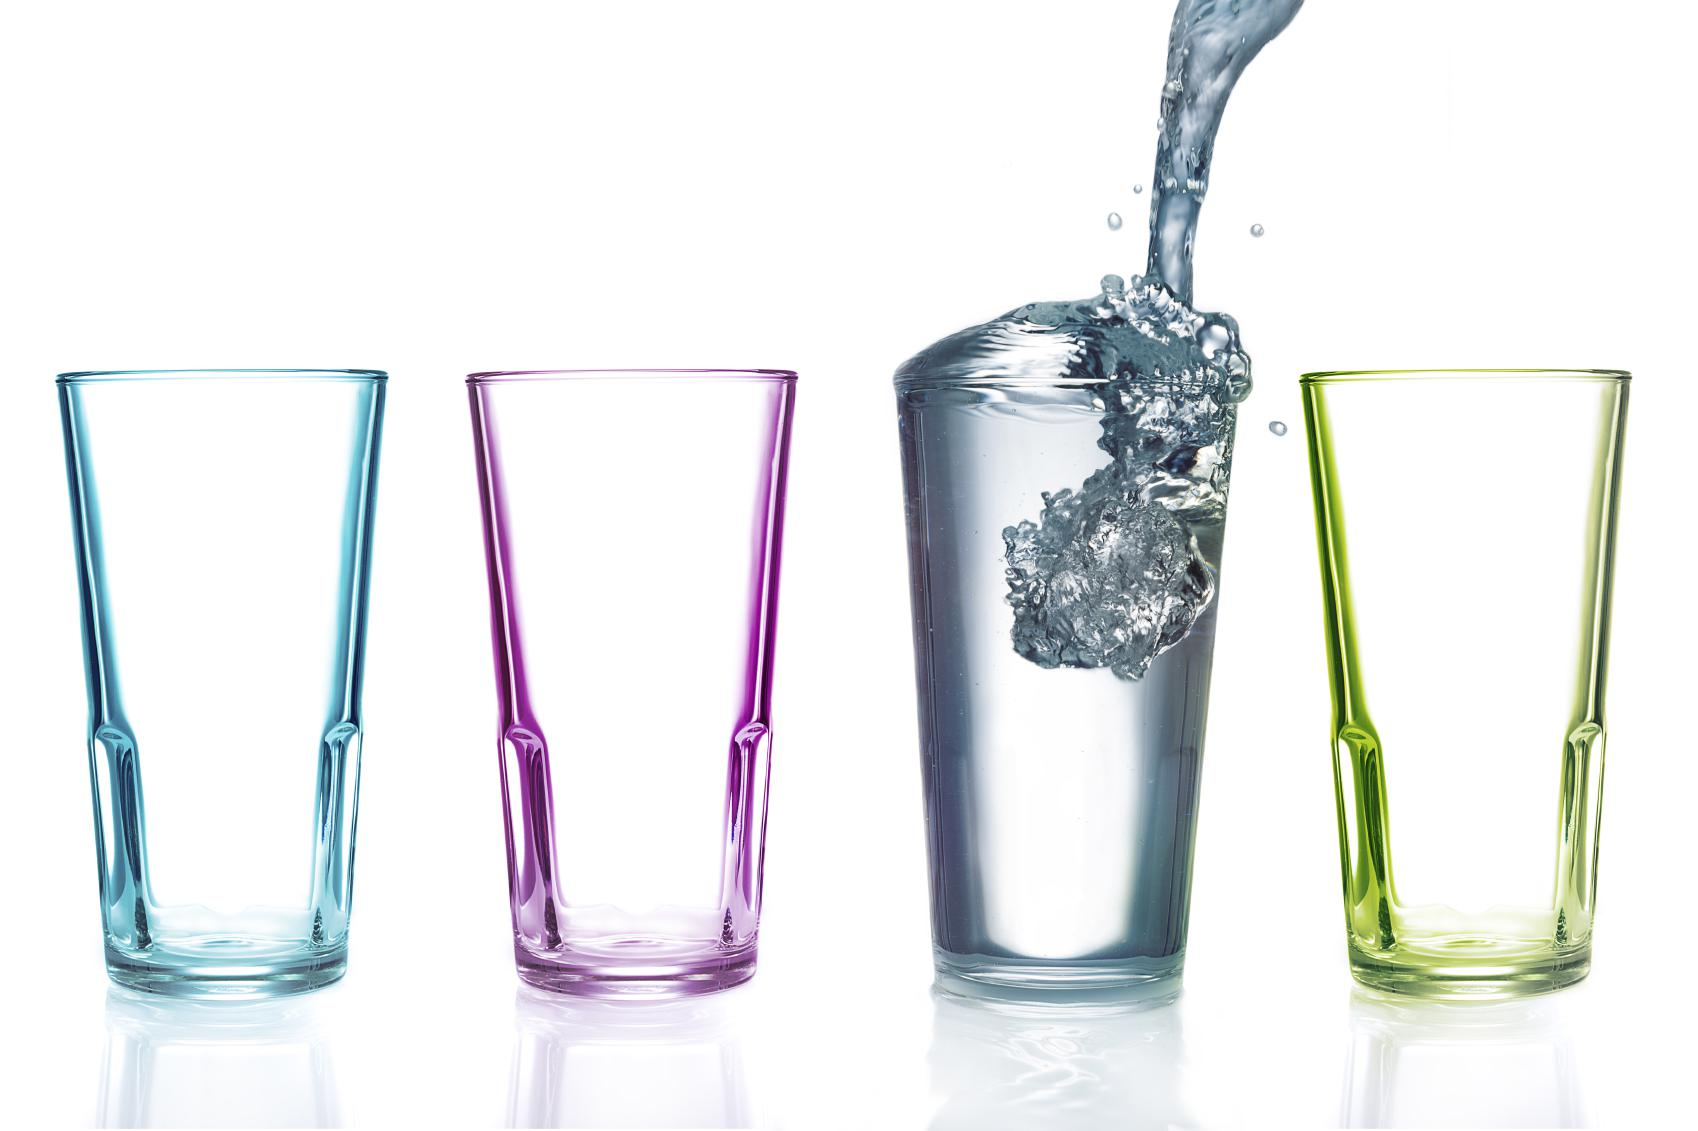glass of water: (962, 312, 1197, 969)
